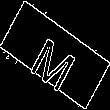M_NE: (27, 21, 83, 89)
